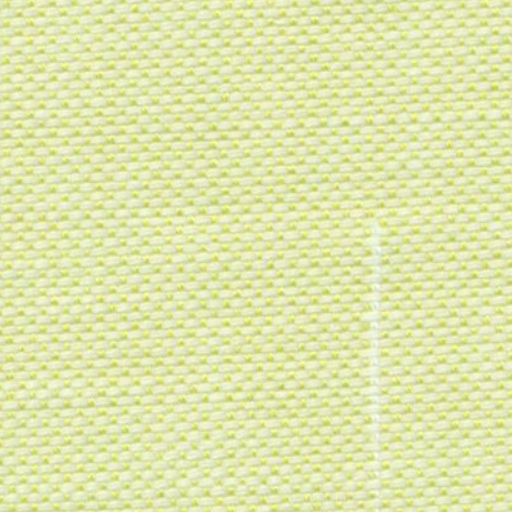DaiSha: (346, 211, 404, 486)
